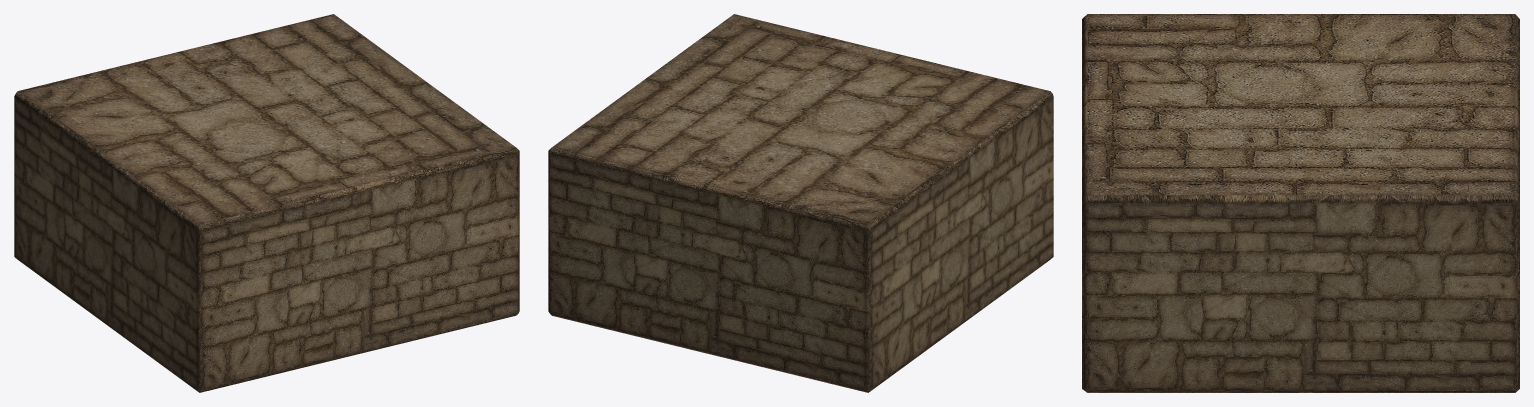
The model's file is Block_03.fbx.
3 renders of one model, left to right at view 1: azimuth 30°, elevation 25°; view 2: azimuth 150°, elevation 25°; view 3: azimuth 270°, elevation 25°, orthographic. The views are drawn at different scales.
Visible parts, largest first — view 1: Block_03; view 2: Block_03; view 3: Block_03.
Boxes of the visible parts, x1=… form: Block_03: x1=14, y1=14, x2=519, y2=392; Block_03: x1=548, y1=14, x2=1053, y2=392; Block_03: x1=1082, y1=14, x2=1519, y2=392.
Bounding box in the file's own units: 7.98 × 3.97 × 7.98.
